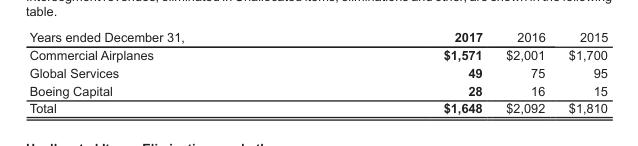table: (28, 29, 607, 115)
table column: (28, 29, 313, 115), (313, 29, 493, 115), (493, 29, 556, 115), (556, 29, 607, 115)
table column header: (28, 29, 607, 45)
table row: (28, 45, 607, 63), (28, 63, 607, 81), (28, 81, 607, 99), (28, 29, 607, 45), (28, 99, 607, 115)
